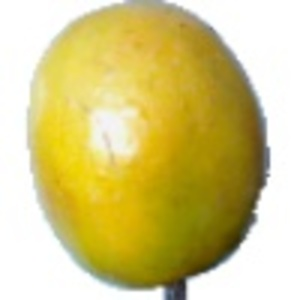maracujá: (25, 1, 272, 300)
